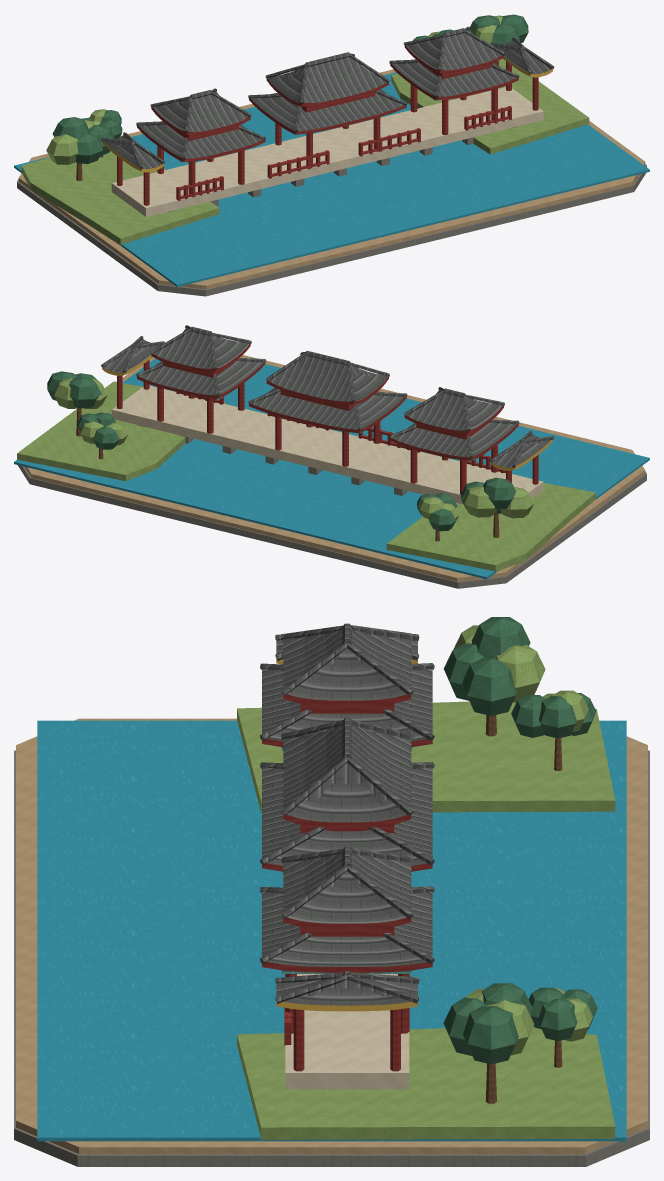
The model's file is chengde-resort.glb.
3 renders of one model, top to bottom at view 1: azimuth 30°, elevation 25°; view 2: azimuth 150°, elevation 25°; view 3: azimuth 270°, elevation 25°, orthographic. The views are drawn at different scales.
Parts seen in each view (by area): view 1: 承德避暑山庄; view 2: 承德避暑山庄; view 3: 承德避暑山庄.
Part boxes in pixels (x1,y1,x2,y2): 承德避暑山庄: (14,14,649,296); 承德避暑山庄: (14,325,649,588); 承德避暑山庄: (14,617,649,1166).
Size of the model in its own units: 12.76 by 2.94 by 7.9.
11 materials, 11 textured.
